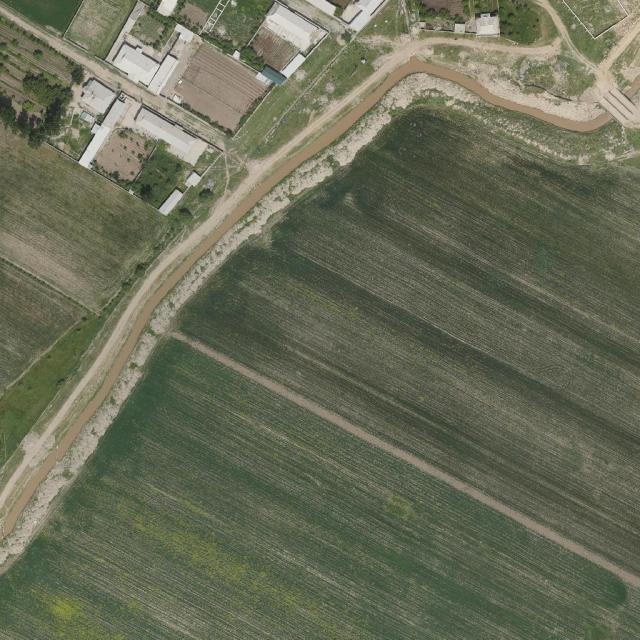agricultural_land: (0, 120, 172, 323), (170, 41, 271, 137), (62, 0, 138, 60), (91, 121, 155, 187), (179, 0, 211, 29)
building: (129, 106, 209, 168), (76, 96, 129, 170), (261, 2, 328, 59), (109, 39, 163, 90), (76, 76, 117, 116), (145, 53, 180, 96), (343, 0, 383, 35), (157, 188, 185, 218), (475, 12, 500, 37), (339, 1, 362, 25), (183, 171, 203, 191), (156, 0, 178, 18), (453, 22, 466, 34)
greenland: (218, 17, 387, 170), (228, 29, 345, 162), (0, 16, 95, 155), (431, 43, 597, 105), (230, 75, 302, 157), (499, 0, 558, 44), (402, 0, 465, 34), (178, 206, 193, 218)
unmetalled_road: (0, 1, 233, 153), (236, 43, 428, 202), (524, 107, 613, 133), (598, 85, 640, 134), (371, 31, 442, 59), (435, 31, 500, 49), (496, 37, 560, 55)
